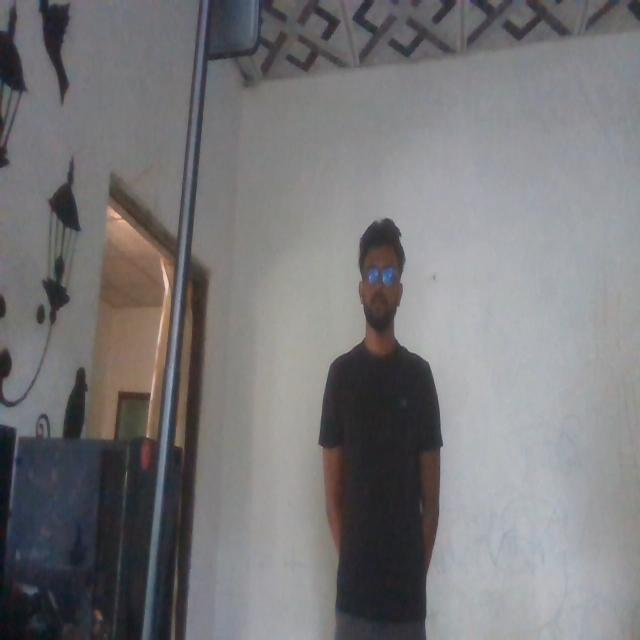Person: (322, 210, 449, 626)
